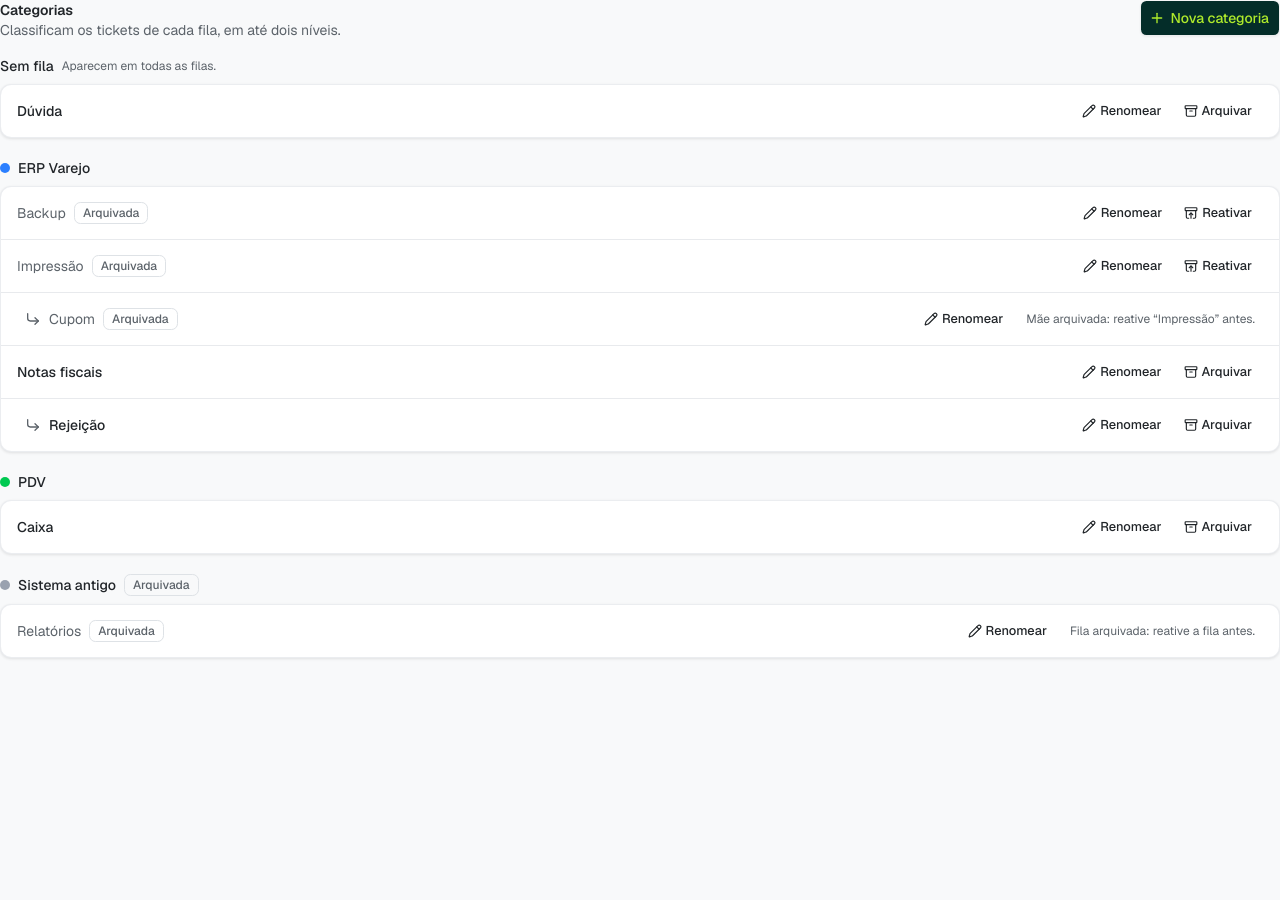
Test case: TicketCategoriesManager — criar › criar filha manda o product_id da mãe, relê e fecha
This screenshot has width=1280, height=900.
Click the button "Nova categoria".
click(1210, 18)  # box [1140, 0, 1279, 36]
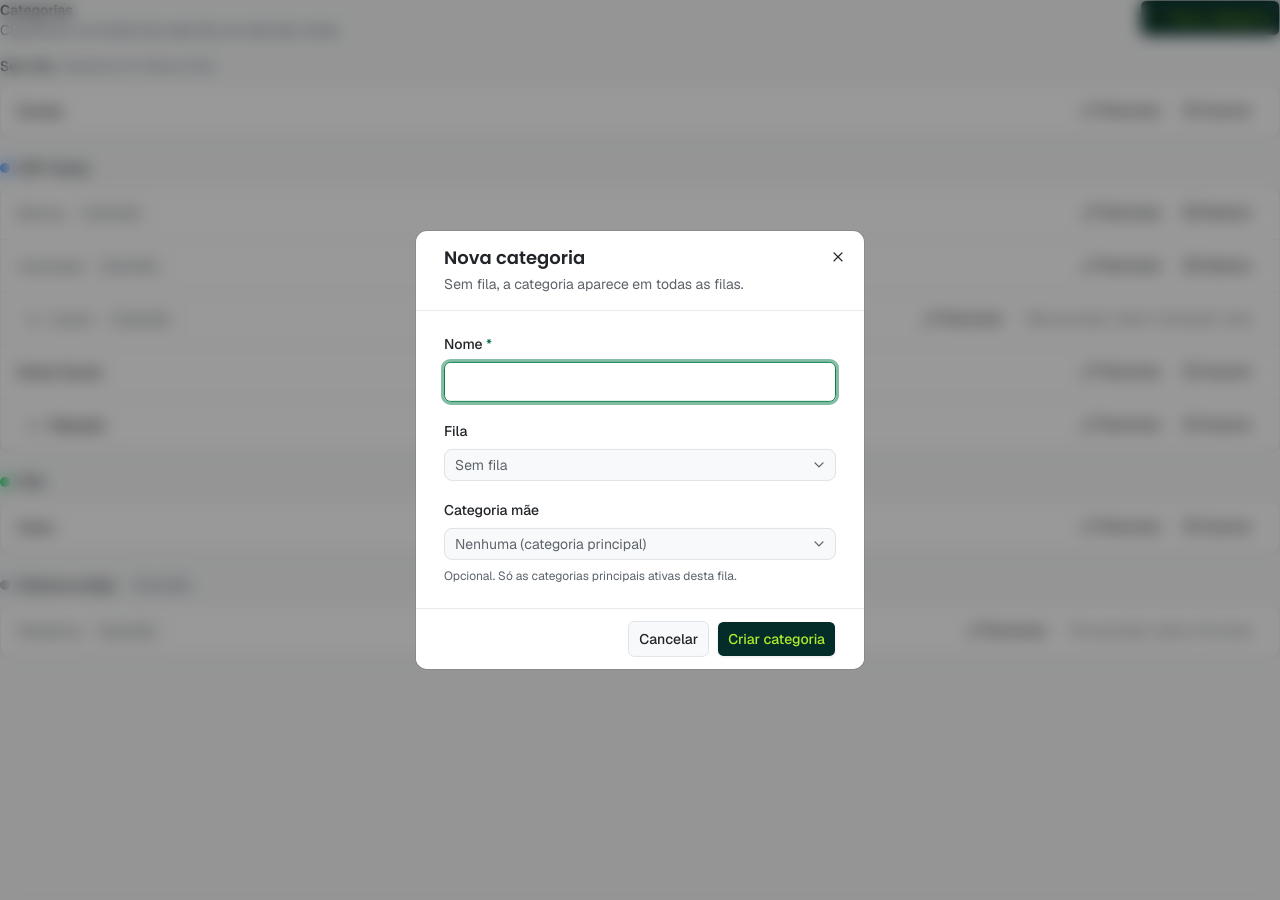
Type "  Denegada " into the field labelled "Nome *".
click(640, 382); type("  Denegada ")  # box [444, 362, 836, 402]
Click the dropdown labelled "fila".
click(481, 465)  # box [444, 449, 836, 481]
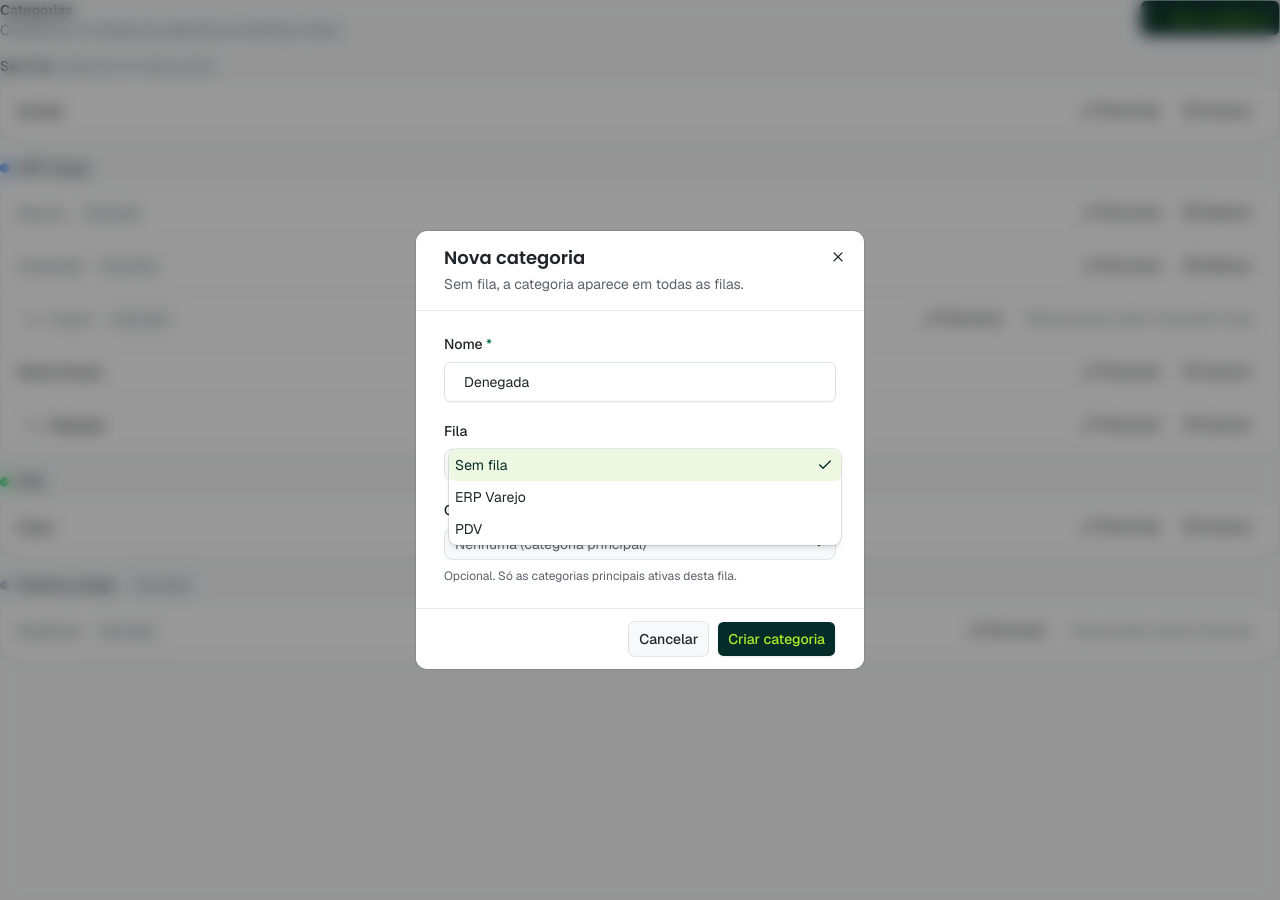
Click the option "ERP Varejo".
click(490, 497)  # box [455, 488, 526, 506]
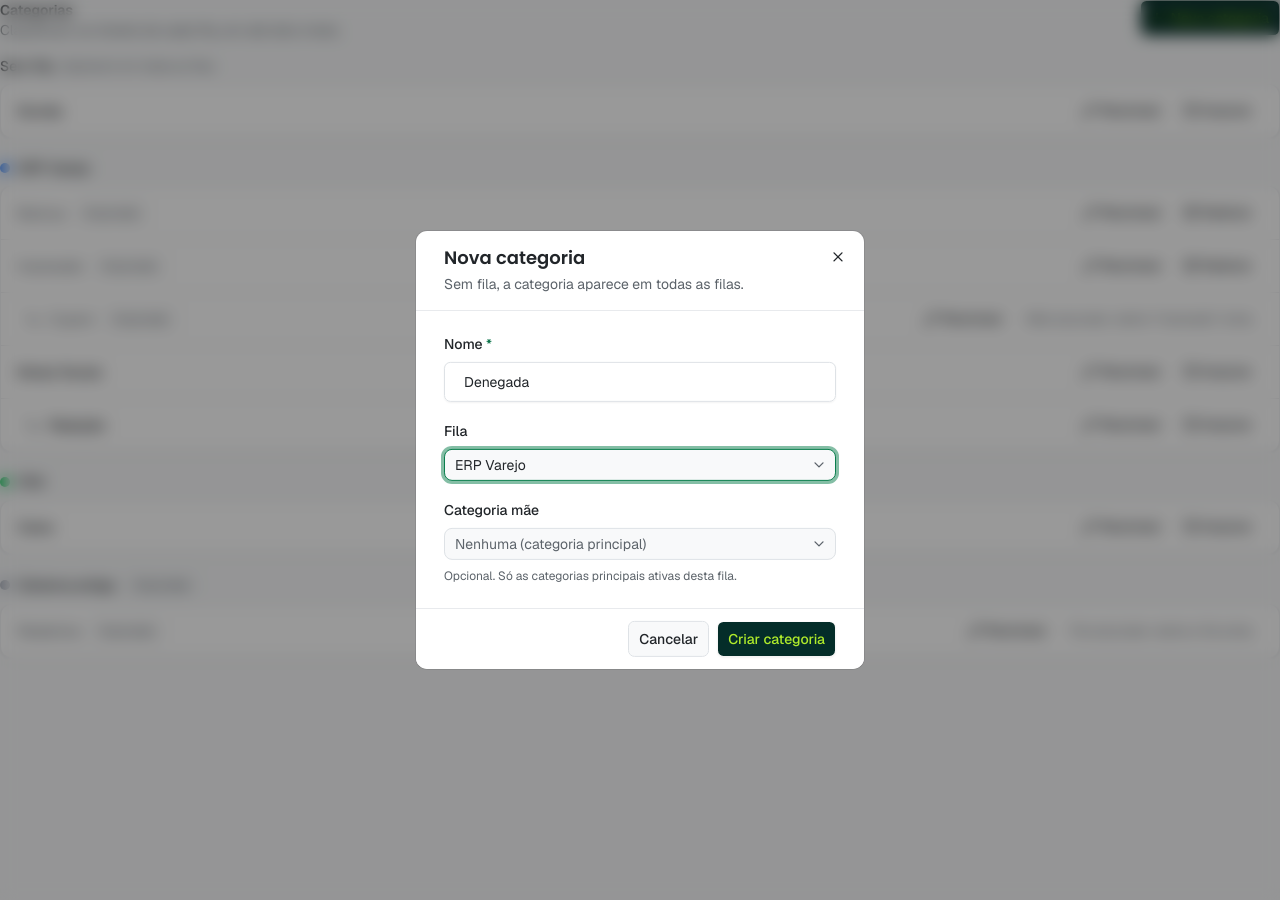
Click the dropdown named "Categoria mãe".
click(640, 544)  # box [444, 528, 836, 560]
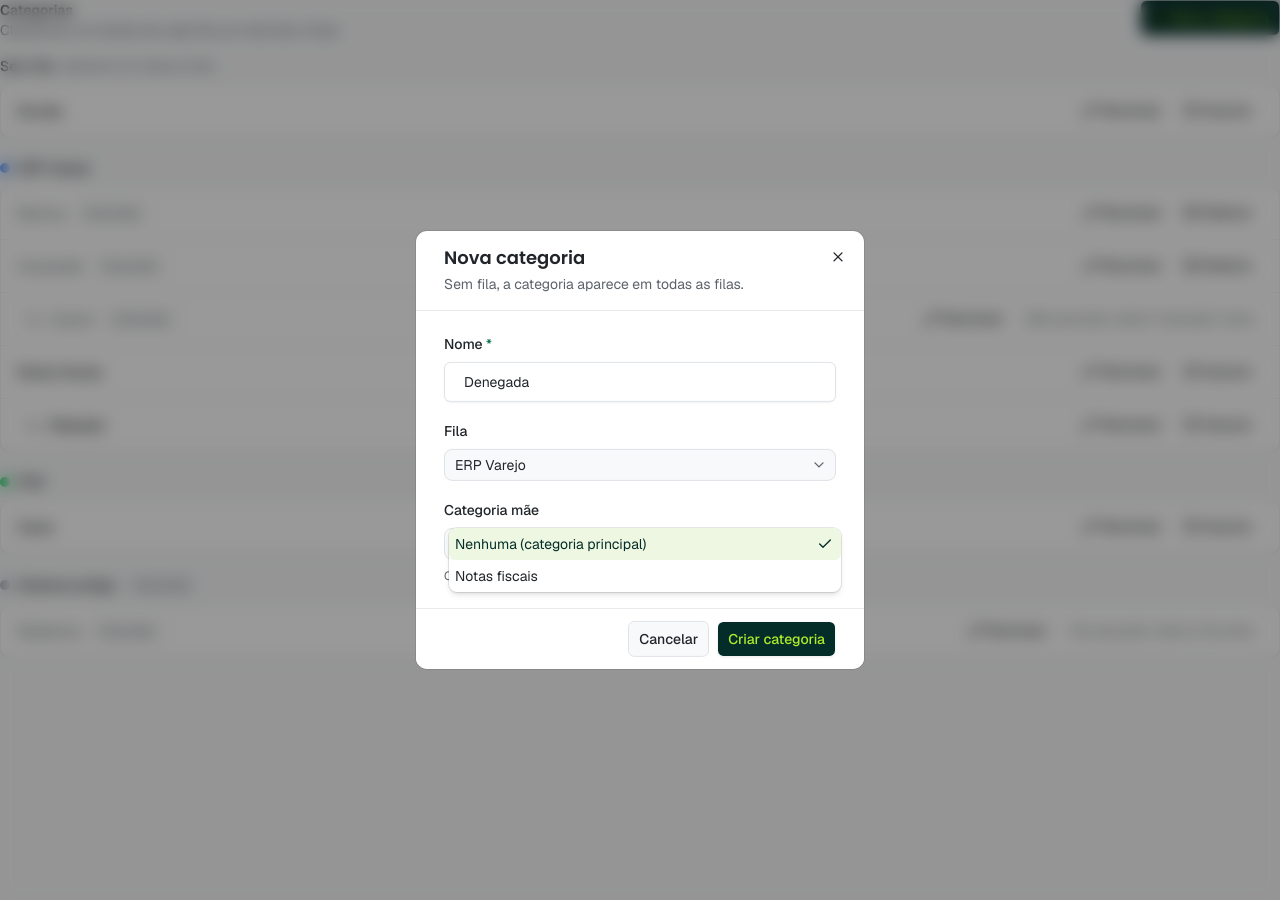
Click the option "Notas fiscais".
click(496, 576)  # box [455, 567, 538, 585]
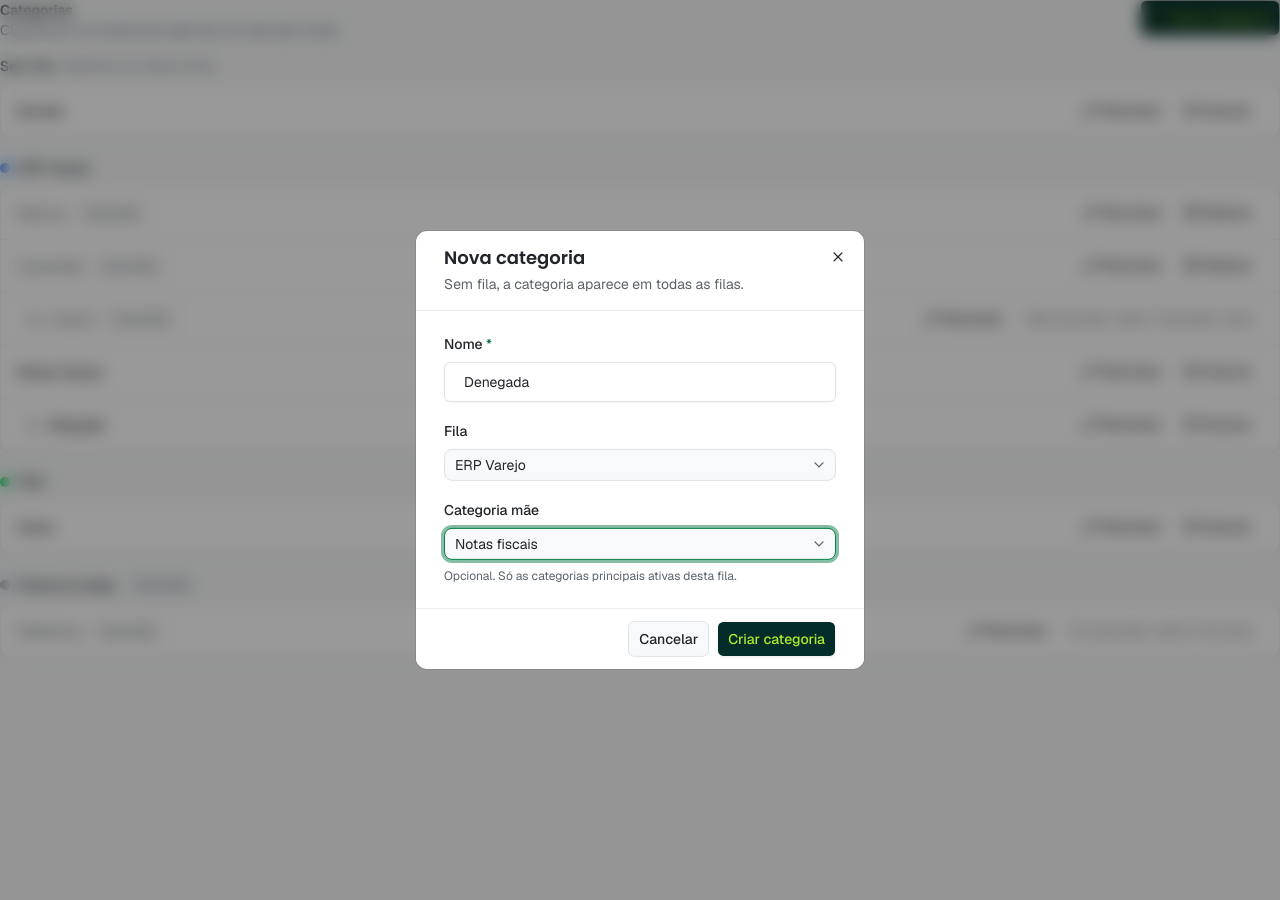
Click the button "Criar categoria".
click(777, 639)  # box [717, 621, 836, 657]
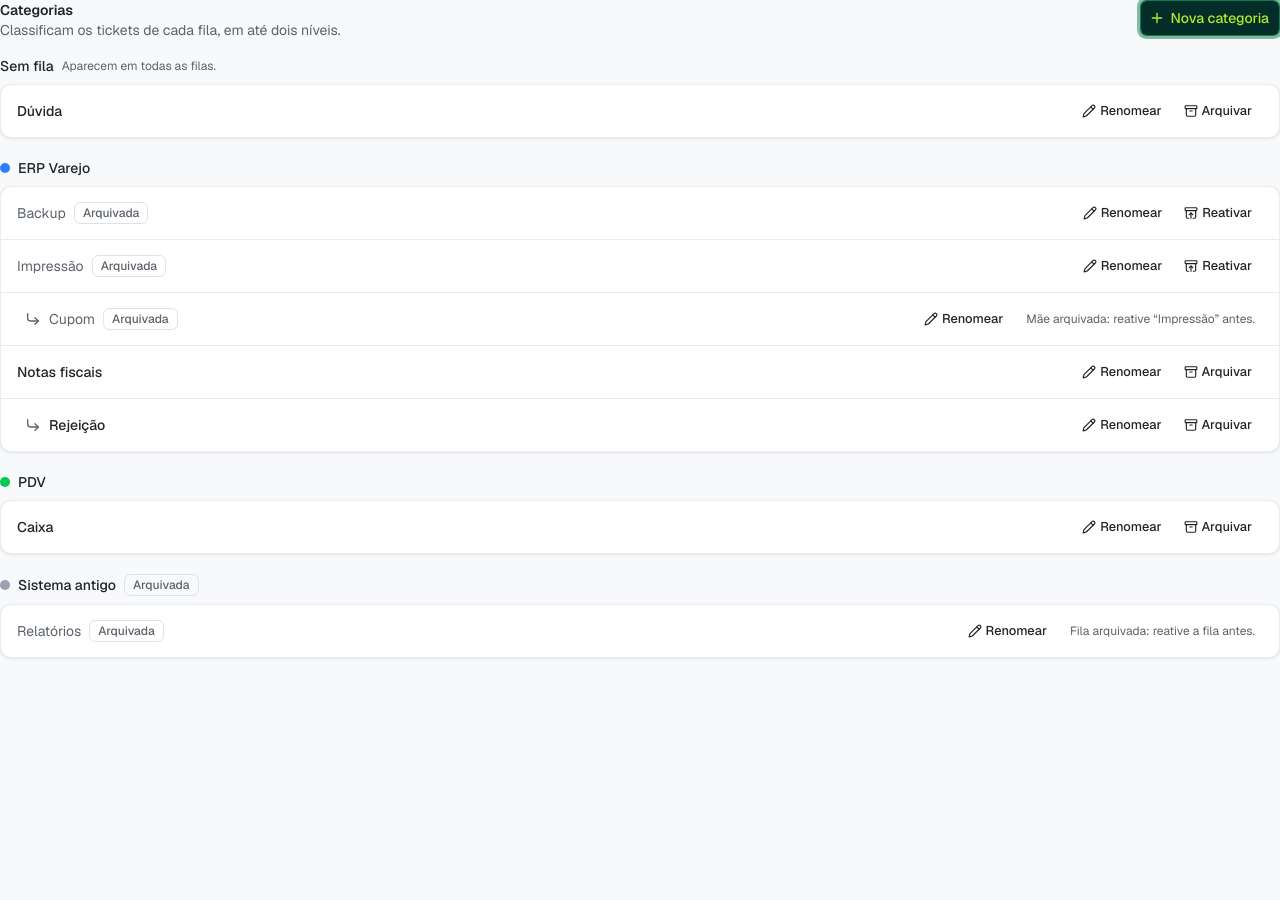
Now the dialog is gone
